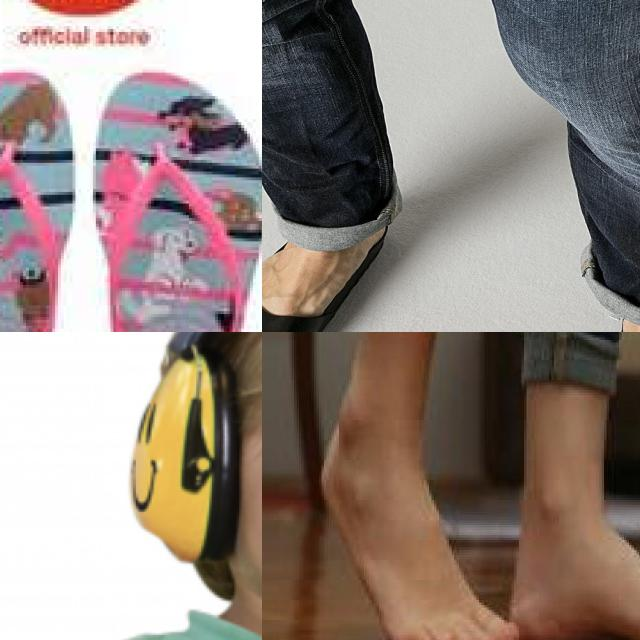Barefoots: (314, 407, 533, 640), (503, 457, 640, 640)
Ear-protection: (109, 335, 254, 576)
Sandals: (0, 34, 262, 332), (262, 204, 379, 332)
